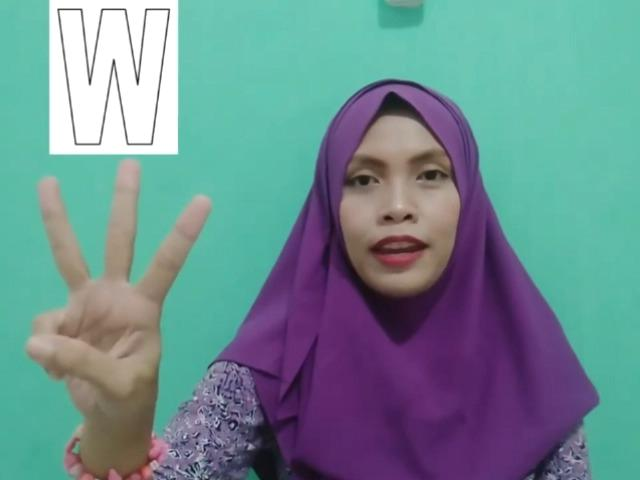W: (29, 156, 213, 416)
